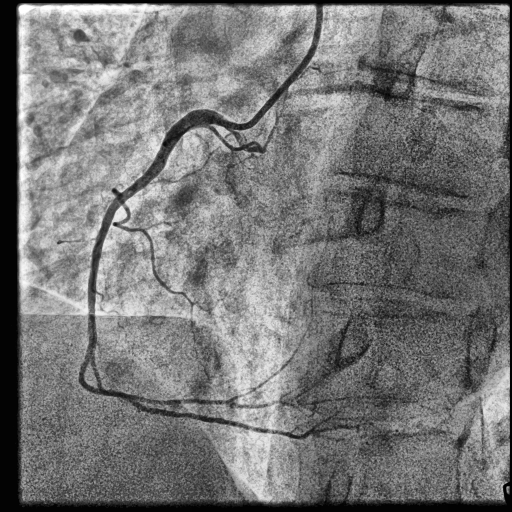rca: (78, 109, 307, 440)
